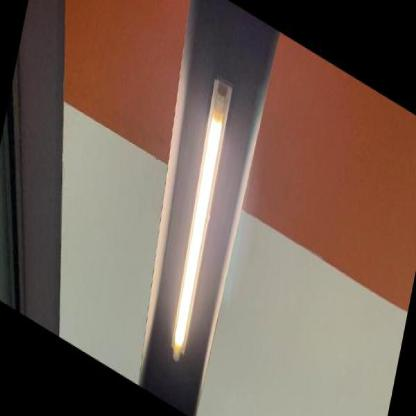light_on: (153, 68, 244, 375)
